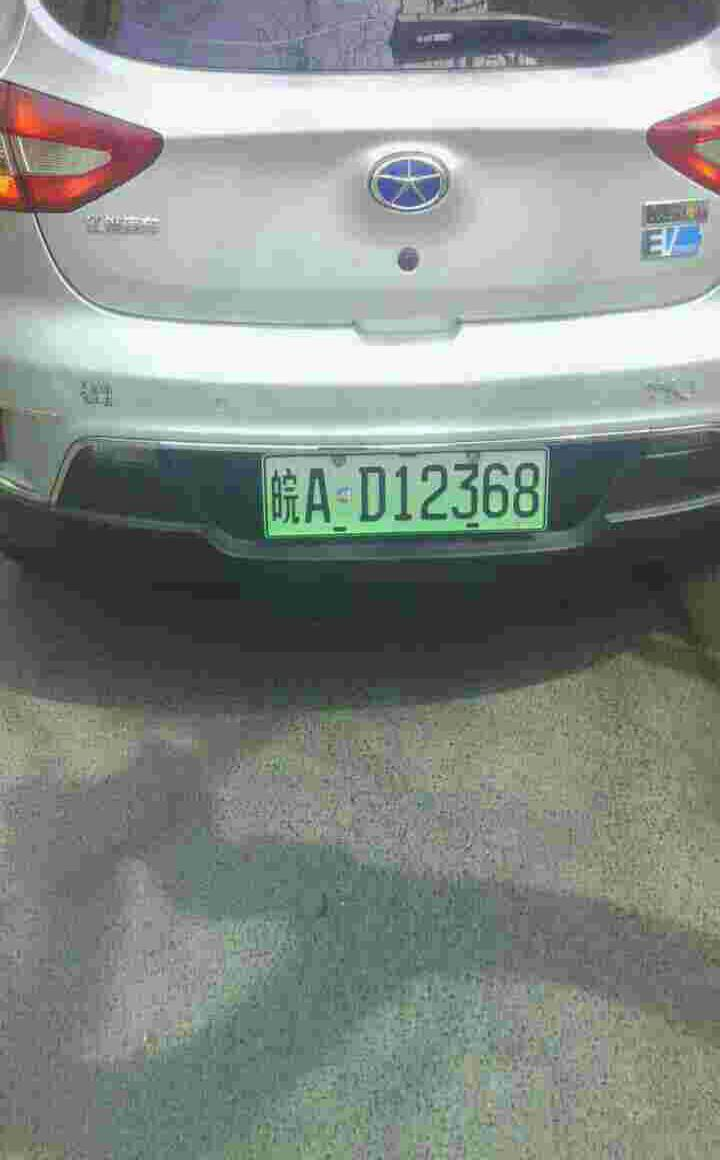car_id: (261, 448, 545, 537)
